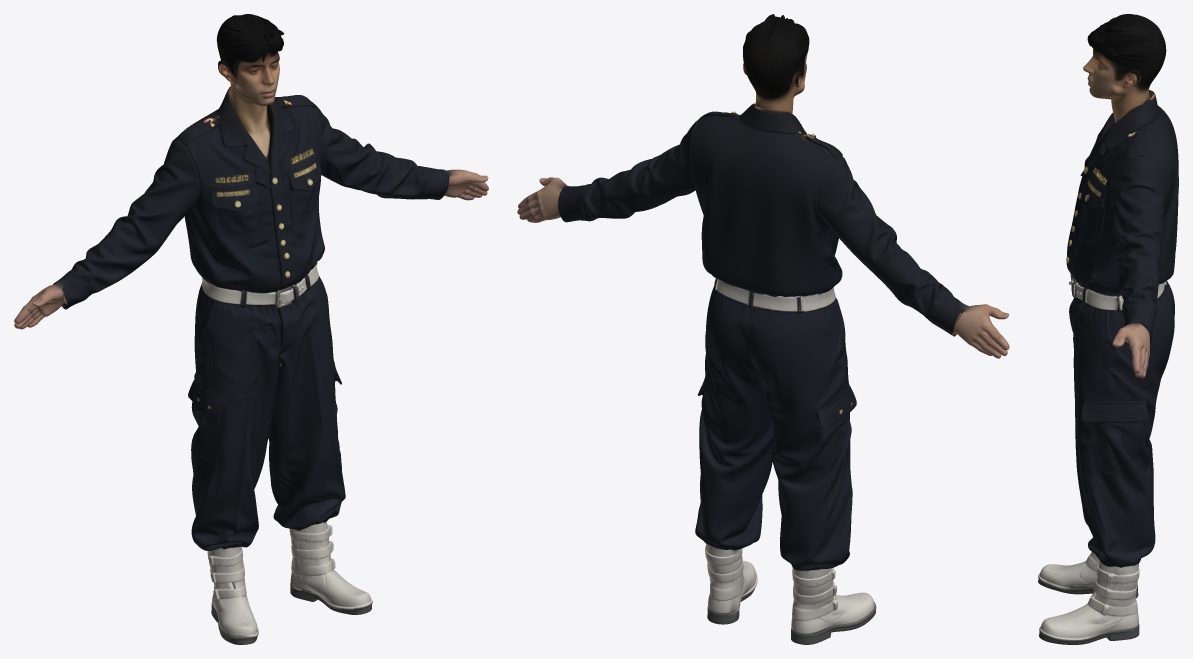
Rendered from fighting_character.glb.
3 views of the same model, side by side, from view 1: azimuth 30°, elevation 25°; view 2: azimuth 150°, elevation 25°; view 3: azimuth 270°, elevation 25° (orthographic). The views are drawn at different scales.
Parts seen in each view (by area): view 1: Object_7, Object_5, Object_4, Object_6, Object_8; view 2: Object_4, Object_7, Object_6, Object_8, Object_5; view 3: Object_5, Object_4, Object_6, Object_7, Object_8.
Boxes of the visible parts, x1,y1,x2,y2 form: Object_7: (151, 109, 409, 644); Object_5: (87, 14, 365, 644); Object_4: (127, 58, 345, 577); Object_6: (14, 145, 488, 533); Object_8: (190, 23, 282, 607); Object_4: (695, 65, 915, 588); Object_7: (585, 122, 876, 639); Object_6: (517, 160, 1009, 469); Object_8: (722, 15, 852, 633); Object_5: (656, 14, 928, 644); Object_5: (1038, 14, 1178, 598); Object_4: (1073, 57, 1178, 615); Object_6: (1069, 176, 1178, 487); Object_7: (1039, 113, 1178, 644); Object_8: (1083, 14, 1165, 583).
Size of the model in its own units: 0.9817 by 1.17 by 0.2528.
1 material, 1 textured.
